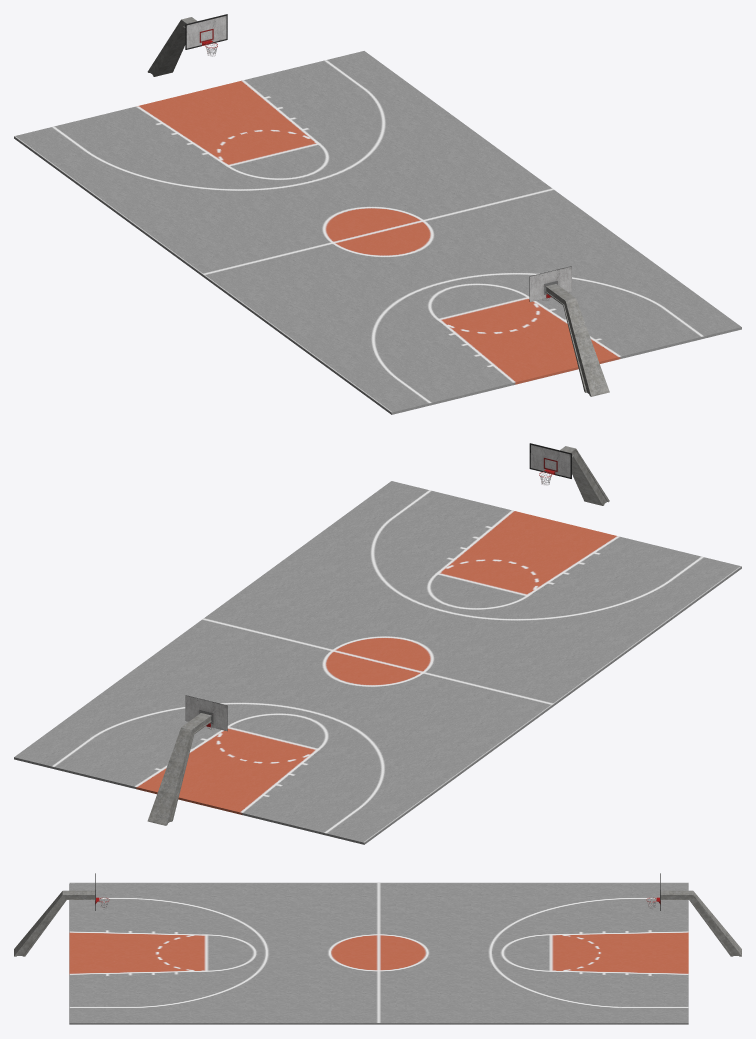
3 renders of one model, top to bottom at view 1: azimuth 30°, elevation 25°; view 2: azimuth 150°, elevation 25°; view 3: azimuth 270°, elevation 25°, orthographic. The views are drawn at different scales.
Visible parts, largest first — view 1: Basketball, Basketball_Backboard, Basketball_Backboard.001; view 2: Basketball, Basketball_Backboard.001, Basketball_Backboard; view 3: Basketball, Basketball_Backboard, Basketball_Backboard.001.
Boxes of the visible parts, x1,y1,x2,y2 form: Basketball: [14, 51, 741, 414]; Basketball_Backboard: [529, 266, 609, 396]; Basketball_Backboard.001: [147, 14, 227, 76]; Basketball: [14, 481, 741, 844]; Basketball_Backboard.001: [147, 695, 227, 825]; Basketball_Backboard: [529, 443, 609, 505]; Basketball: [69, 882, 688, 1024]; Basketball_Backboard: [14, 873, 95, 956]; Basketball_Backboard.001: [660, 873, 741, 956].
Bounding box in the file's own units: 15 × 3.65 × 32.92.
Materials: 3 (3 with a texture image).
